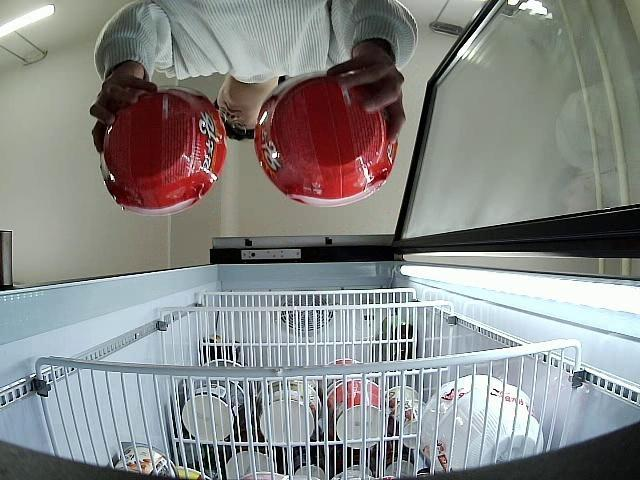10_wangTtukkeong: (256, 73, 398, 206), (102, 87, 227, 214)
